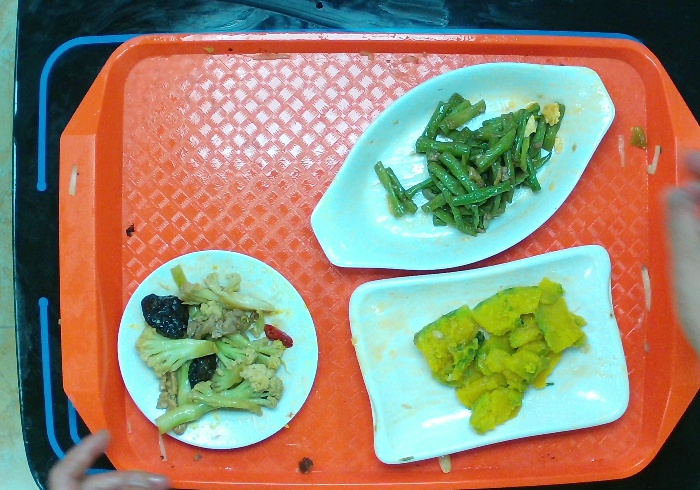RJxy-Si_Fang_Ao_Bian_Wan: (347, 242, 631, 466)
RJxy-Xiao_Yuan_Die: (116, 248, 320, 452)
RJxy-Yu_Pan: (308, 60, 618, 271)
